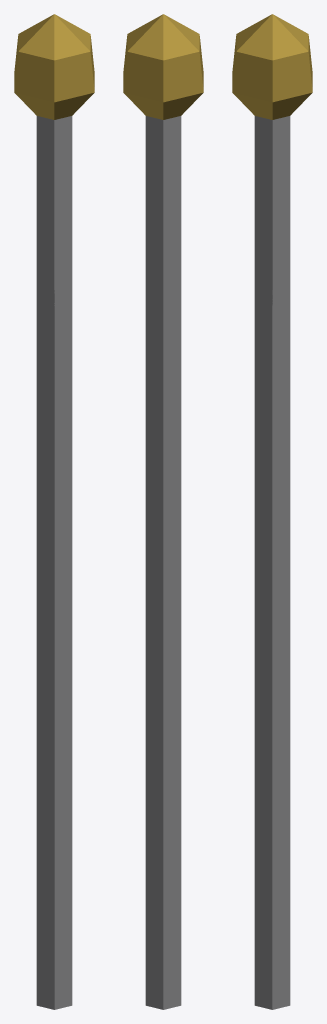
File: SM_Bld_Castle_Flagpole_01.glb
3 renders of one model, left to right at view 1: azimuth 30°, elevation 25°; view 2: azimuth 210°, elevation 25°; view 3: azimuth 330°, elevation 25°, orthographic.
Parts seen in each view (by area): view 1: SM_Bld_Castle_Flagpole_01; view 2: SM_Bld_Castle_Flagpole_01; view 3: SM_Bld_Castle_Flagpole_01.
Part boxes in pixels (x1,y1,x2,y2): SM_Bld_Castle_Flagpole_01: (14, 14, 94, 1009); SM_Bld_Castle_Flagpole_01: (123, 14, 203, 1009); SM_Bld_Castle_Flagpole_01: (232, 14, 312, 1009).
Size of the model in its own units: 0.2444 by 2.87 by 0.2117.
Materials: 1 (1 with a texture image).
